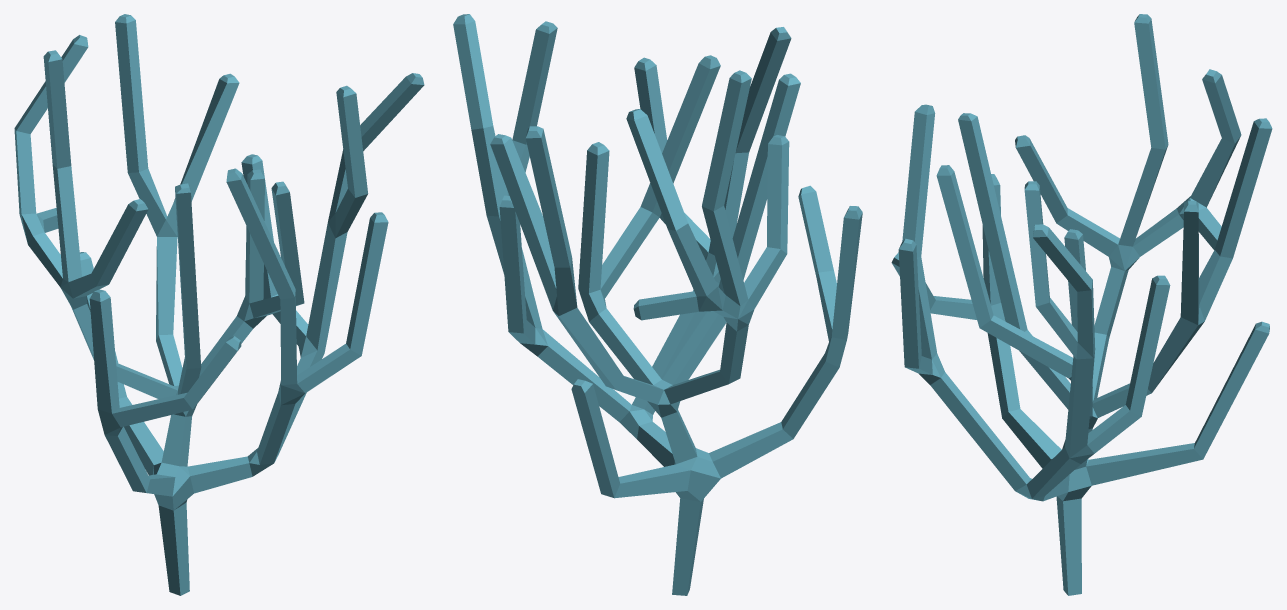
File: Coral09.fbx
The picture shows the model from 3 angles, left to right: view 1: azimuth 30°, elevation 25°; view 2: azimuth 150°, elevation 25°; view 3: azimuth 270°, elevation 25°; orthographic projection. The views are drawn at different scales.
Visible parts, largest first — view 1: Coral09; view 2: Coral09; view 3: Coral09.
Boxes of the visible parts, x1=… form: Coral09: x1=14, y1=14, x2=424, y2=595; Coral09: x1=453, y1=14, x2=862, y2=595; Coral09: x1=891, y1=14, x2=1272, y2=595.
Bounding box in the file's own units: 2.06 × 2.97 × 1.93.
